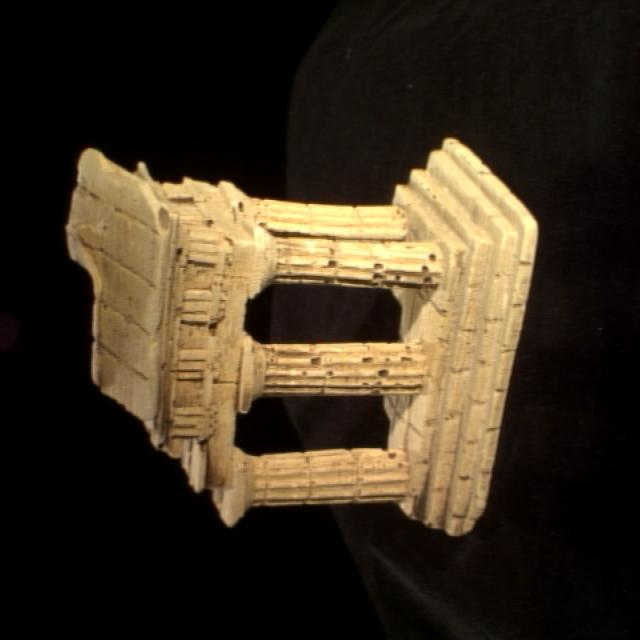Instance-Segmentation: (68, 139, 537, 533)
